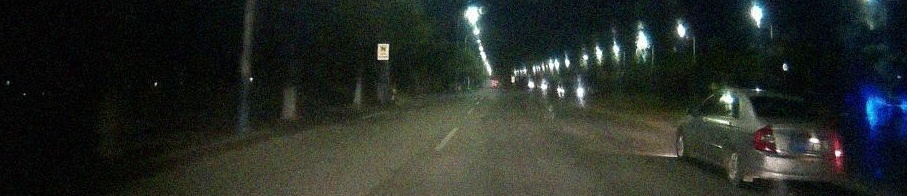L_light: (752, 126, 777, 152)
R_light: (827, 135, 843, 159)
T_light: (778, 97, 791, 103)
night-right: (742, 89, 844, 186)
